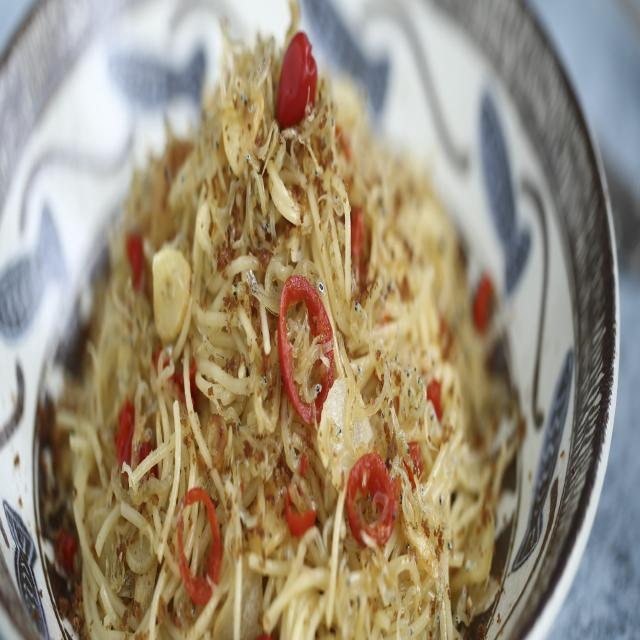Oil pasta: (47, 43, 581, 639)
